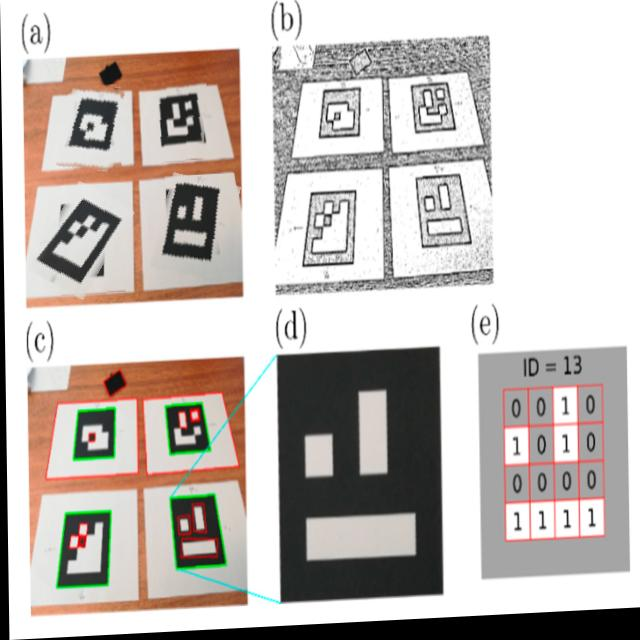aruco: (36, 184, 124, 299), (154, 175, 236, 282), (59, 85, 121, 175), (155, 77, 208, 166)
